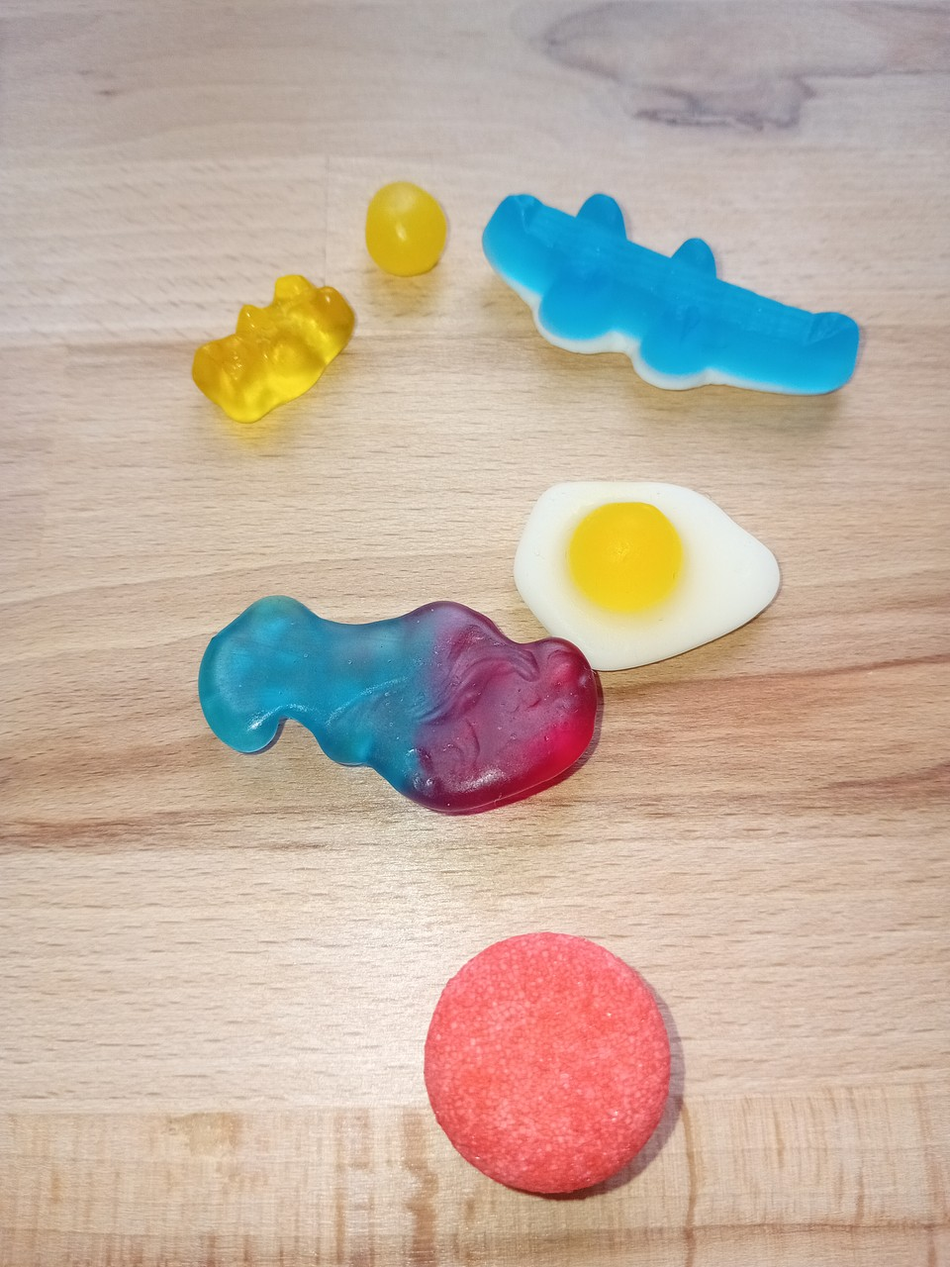crocodile_bleu: (475, 180, 867, 407)
dragibus_jaune: (353, 173, 455, 281)
oeuf_oeuf: (509, 470, 784, 678)
ourson_jaune: (185, 266, 358, 428)
schtroumpf_bleu-rouge: (191, 590, 603, 821)
tagada_fraise: (410, 923, 689, 1200)
